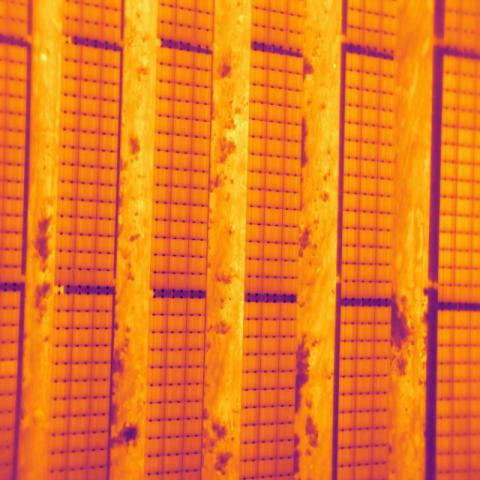fault: (0, 360, 17, 376)
